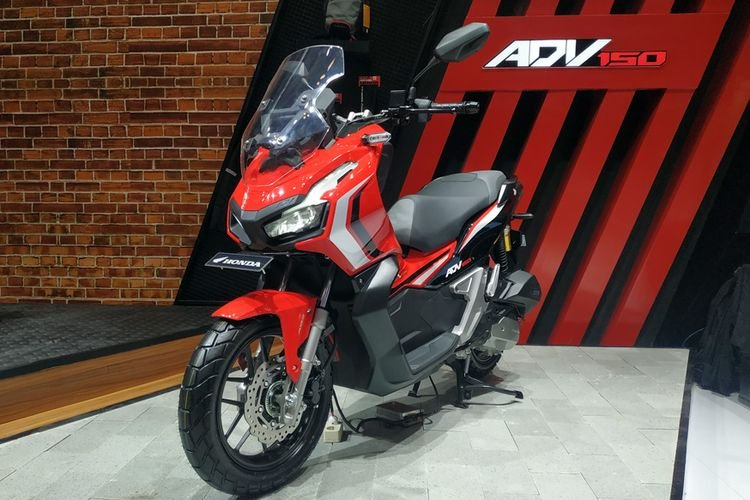motor: (172, 108, 544, 491)
